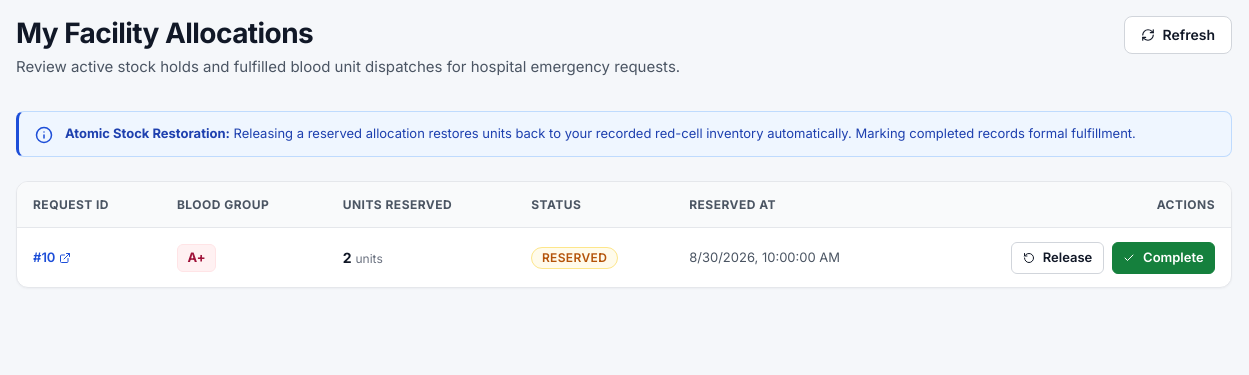
Blood Bank Flow › renders allocations and executes release and complete actions
The image size is (1249, 375).
expect the link "#10" is shown: met, box [33,248,72,268]
expect the text "2" is shown: met, box [343,249,352,266]
Click the button "Release".
click(1058, 258)  # box [1011,242,1104,274]
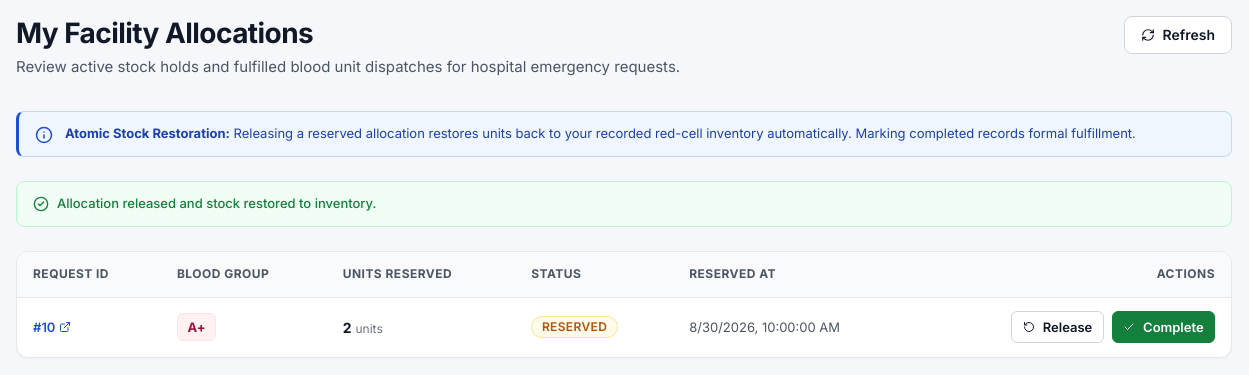
expect the text "Allocation released and stock restored to inventory." is shown: met, box [57,194,376,214]
